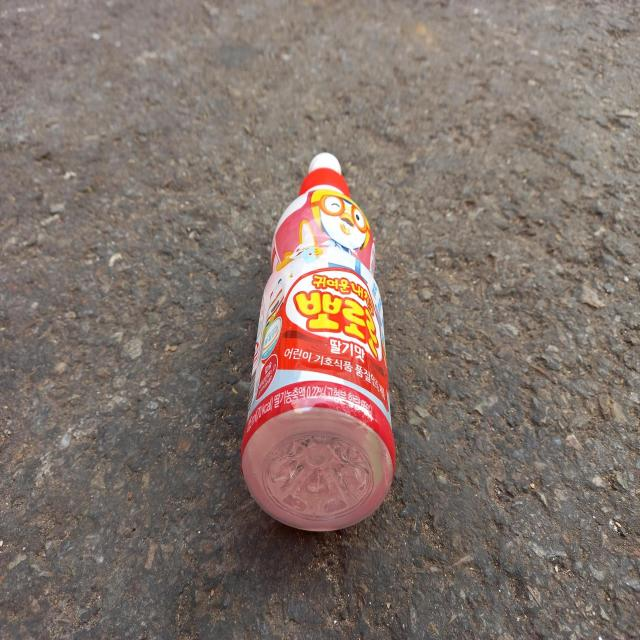plastic: (242, 152, 396, 531)
